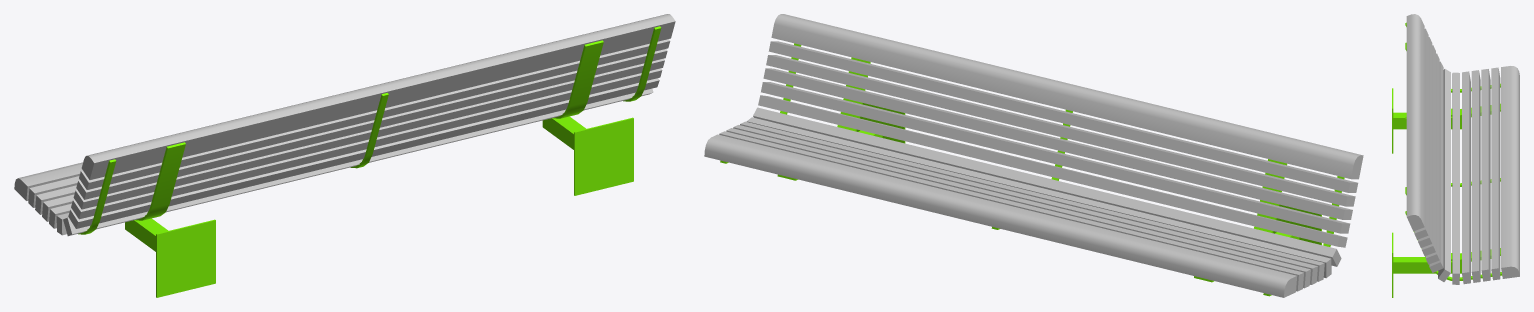
3 renders of one model, left to right at view 1: azimuth 30°, elevation 25°; view 2: azimuth 150°, elevation 25°; view 3: azimuth 270°, elevation 25°, orthographic. The views are drawn at different scales.
Visible parts, largest first — view 1: mesh1_mesh1-geometry, mesh3_mesh3-geometry, mesh6_mesh6-geometry, mesh5_mesh5-geometry, mesh9_mesh9-geometry; view 2: mesh1_mesh1-geometry, mesh3_mesh3-geometry, mesh5_mesh5-geometry, mesh6_mesh6-geometry; view 3: mesh1_mesh1-geometry, mesh3_mesh3-geometry, mesh5_mesh5-geometry, mesh6_mesh6-geometry, mesh9_mesh9-geometry.
Part boxes in pixels (x1,y1,x2,y2): mesh1_mesh1-geometry: (28, 39, 670, 236); mesh3_mesh3-geometry: (14, 14, 675, 200); mesh6_mesh6-geometry: (156, 117, 633, 297); mesh5_mesh5-geometry: (125, 40, 611, 268); mesh9_mesh9-geometry: (78, 26, 661, 234); mesh1_mesh1-geometry: (719, 41, 1358, 291); mesh3_mesh3-geometry: (704, 14, 1363, 297); mesh5_mesh5-geometry: (777, 57, 1299, 282); mesh6_mesh6-geometry: (856, 103, 1321, 244); mesh1_mesh1-geometry: (1414, 28, 1500, 284); mesh3_mesh3-geometry: (1406, 14, 1519, 278); mesh5_mesh5-geometry: (1393, 42, 1500, 273); mesh6_mesh6-geometry: (1392, 88, 1393, 297); mesh9_mesh9-geometry: (1405, 22, 1502, 280).
Size of the model in its own units: 0.9417 by 0.2212 by 0.2536.
